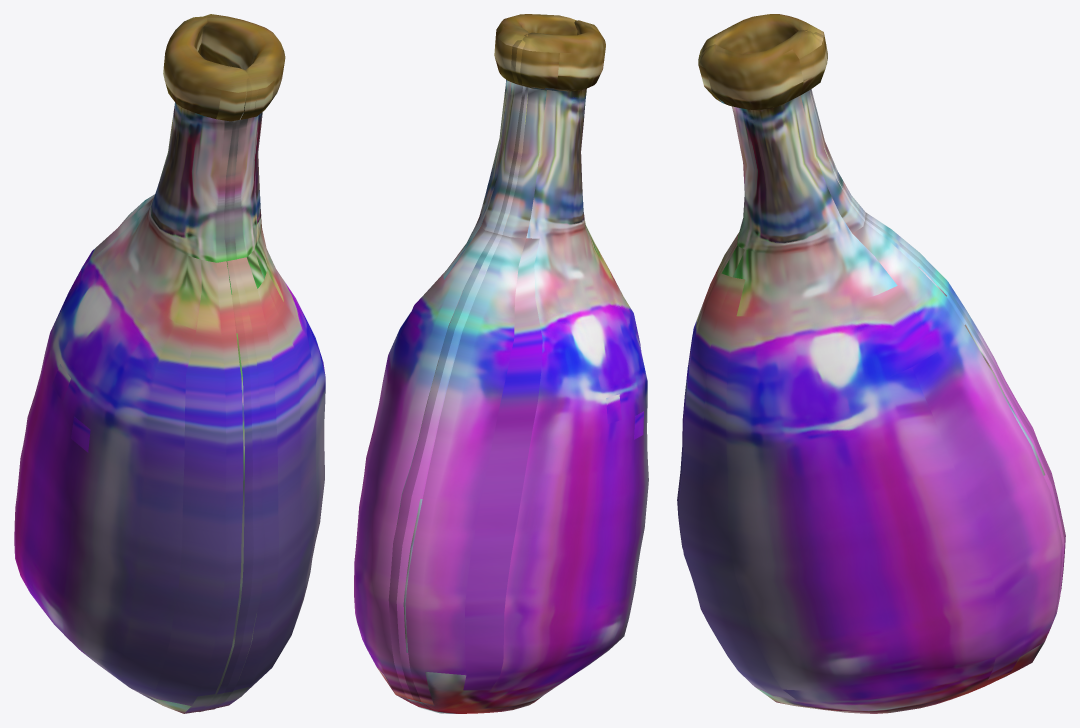
The model's file is bottleanimation.gltf.
The picture shows the model from 3 angles, left to right: view 1: azimuth 30°, elevation 25°; view 2: azimuth 150°, elevation 25°; view 3: azimuth 270°, elevation 25°; orthographic projection. The views are drawn at different scales.
Parts seen in each view (by area): view 1: Cube; view 2: Cube; view 3: Cube.
Boxes of the visible parts, x1,y1,x2,y2 form: Cube: [14, 14, 325, 713]; Cube: [354, 14, 648, 713]; Cube: [677, 14, 1065, 713].
Bounding box in the file's own units: 3.7 × 9.79 × 5.08.
Materials: 2 (2 with a texture image).
